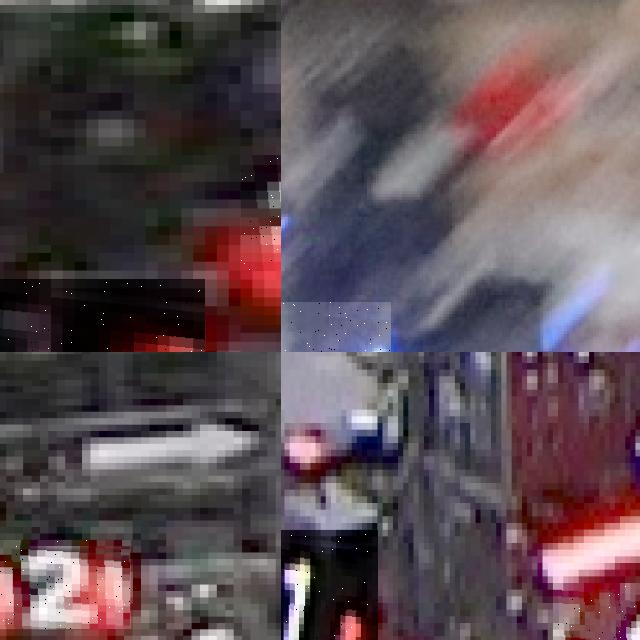R1: (0, 279, 205, 352), (281, 529, 377, 640), (552, 583, 640, 640), (240, 155, 281, 270)
R2: (0, 539, 132, 629)
